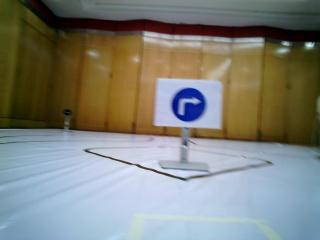right: (164, 83, 216, 124)
